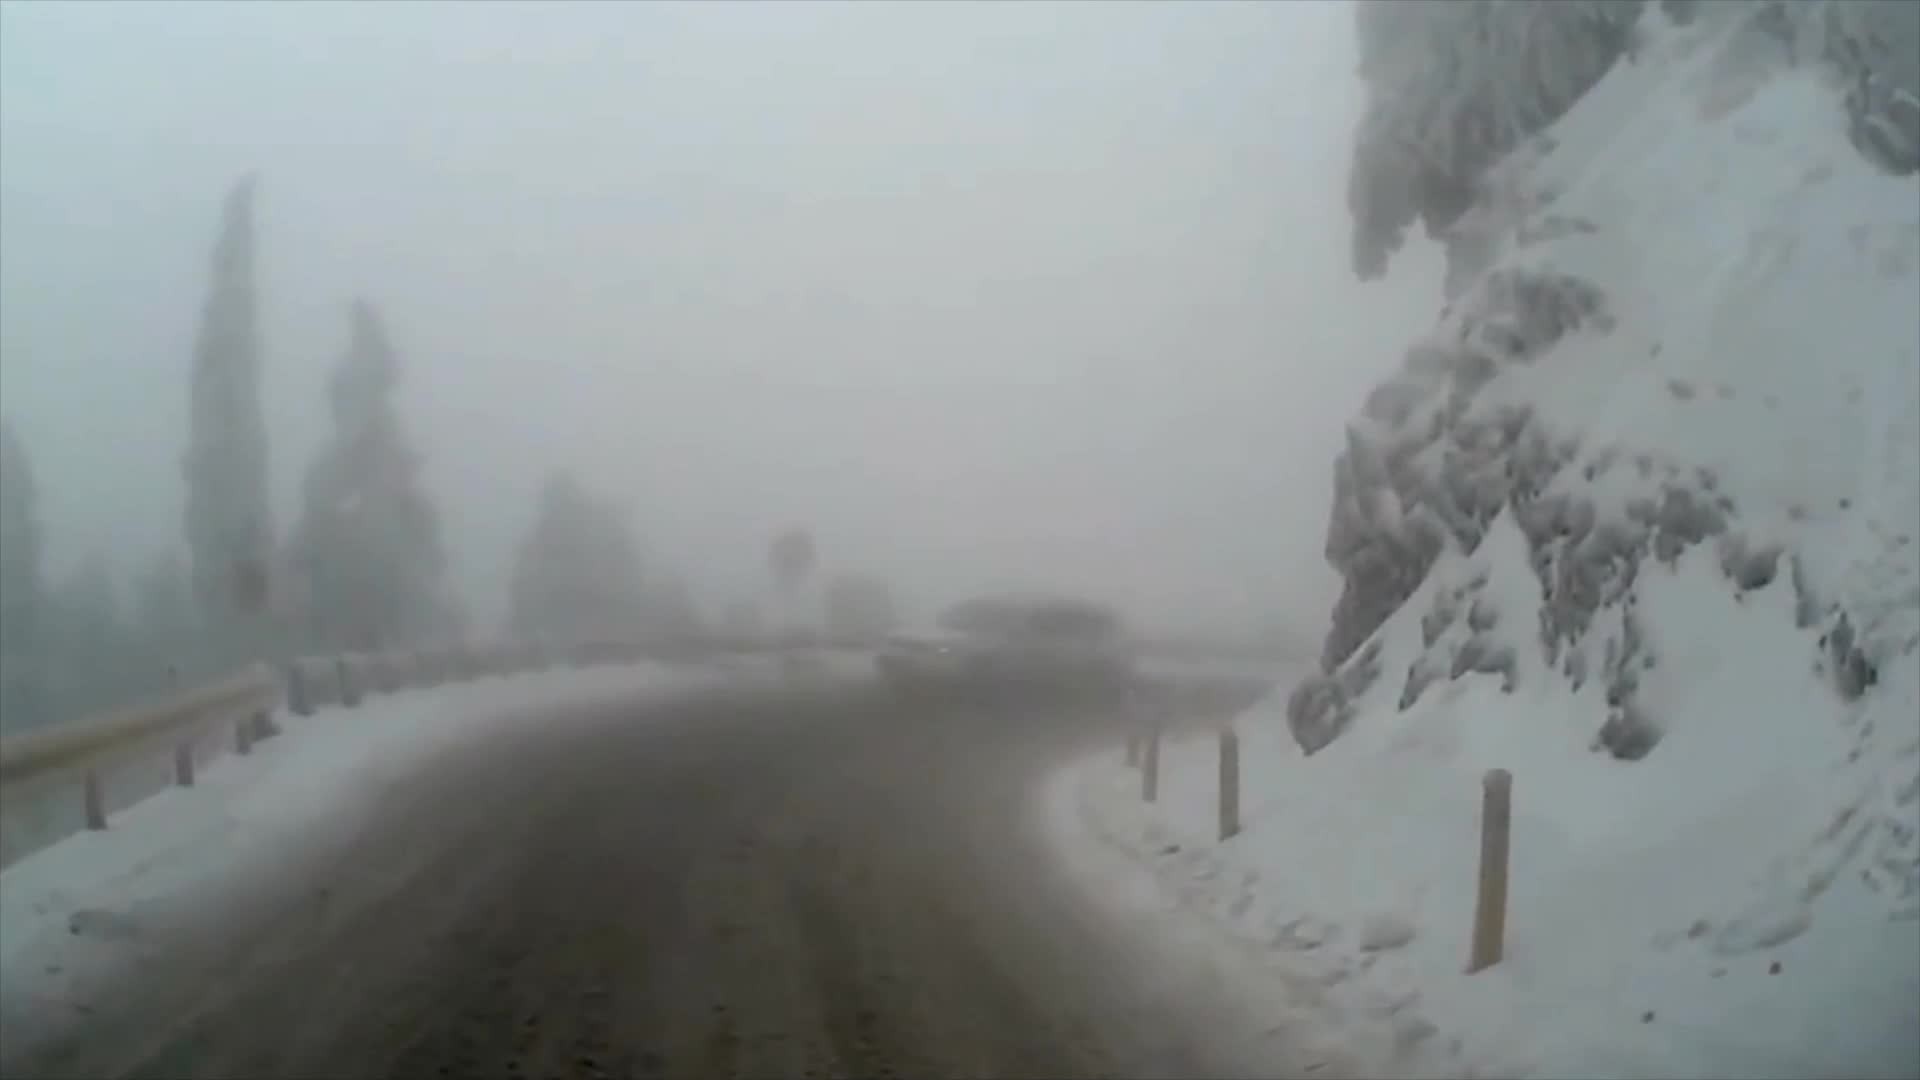vehicle: (872, 589, 1133, 712)
